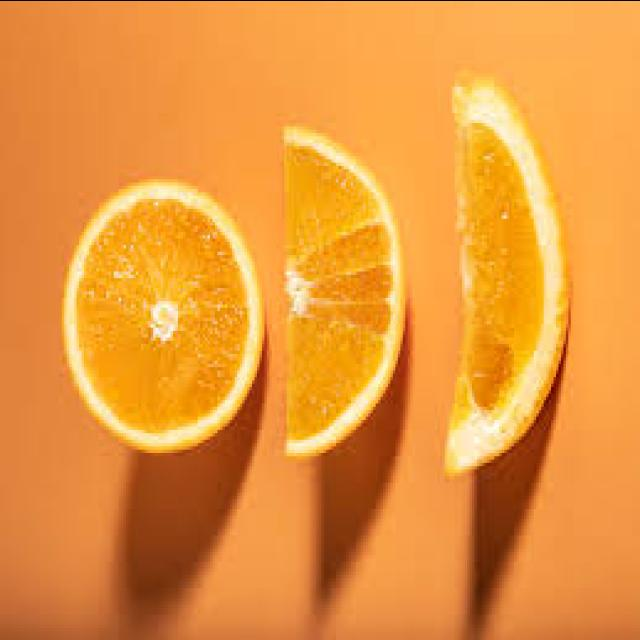orange: (62, 183, 266, 457)
